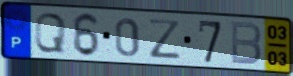0: (113, 17, 143, 58)
6: (71, 12, 101, 59)
7: (197, 18, 224, 64)
B: (229, 20, 264, 67)
Q: (33, 11, 68, 55)
Z: (146, 17, 183, 60)
